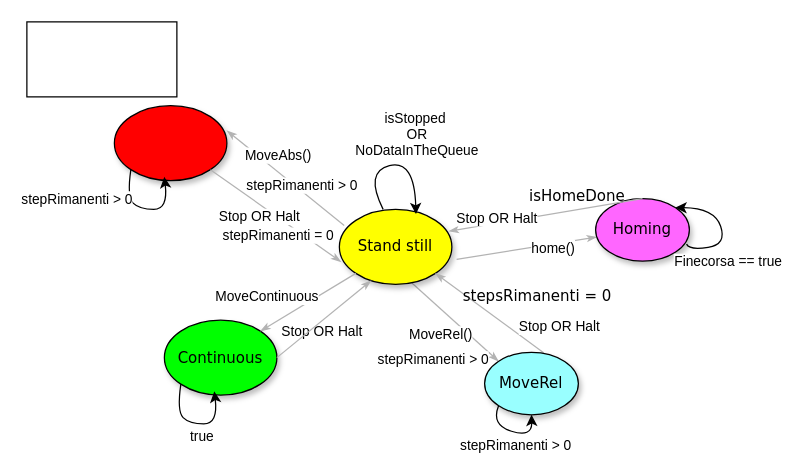
The diagram is 803 pixels wide and 475 high, and some of its shapes have lost their labels. Here are the shapes that lost their labels. From the top down, the centre of each, then its label:
(x=101, y=59): Gestione della coda dei comandi del motion con priorità
(x=171, y=144): MoveAbs
